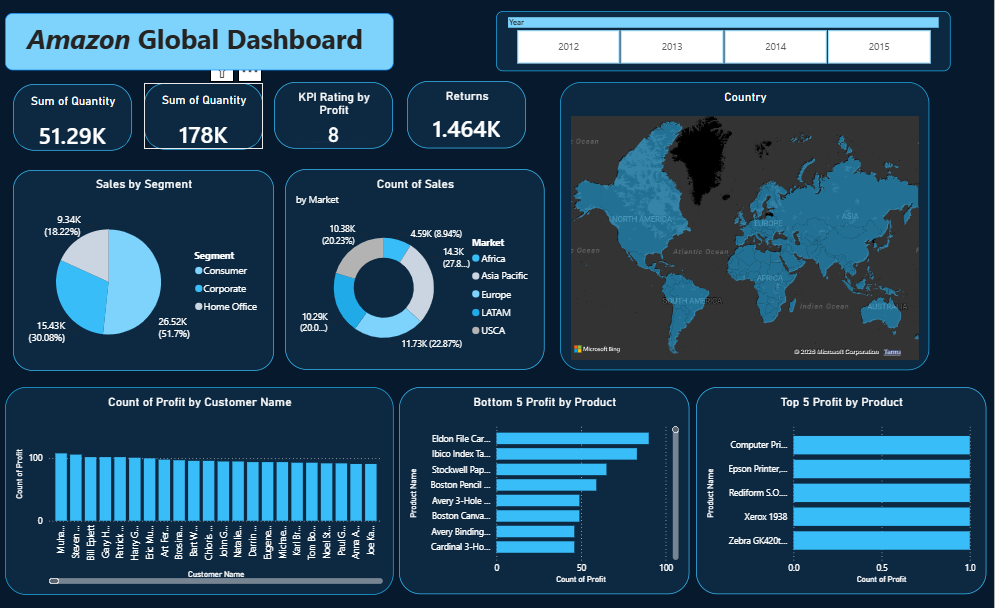

Layout of this report page (visuals, bound fields, positions):
{"tool":"powerbi","page":{"name":"Page 1","canvas":[1389,850],"ordinal":0},"visuals":[{"type":"pieChart","title":" Sales by Segment","fields":{"Series":["amazondataset.Segment"],"Y":["CountNonNull(amazondataset.Sales)"]},"box":[21.2,240.4,363.7,280.2],"z":0},{"type":"donutChart","fields":{"Series":["amazondataset.Market"],"Y":["CountNonNull(amazondataset.Sales)"]},"box":[399.8,239.1,362.4,280.2],"z":1000},{"type":"clusteredColumnChart","fields":{"Y":["CountNonNull(amazondataset.Profit)"],"Category":["amazondataset.Customer Name"]},"box":[9.3,541.9,541.9,289.5],"z":2000},{"type":"clusteredBarChart","title":"Bottom 5 Profit by Product","fields":{"Category":["amazondataset.Product Name"],"Y":["CountNonNull(amazondataset.Profit)"]},"box":[559.1,541.9,404.8,289.2],"z":3000},{"type":"filledMap","fields":{"Category":["amazondataset.Country"]},"box":[783.6,116.9,515.3,402.4],"z":4000},{"type":"kpi","fields":{"Indicator":["Sum(amazondataset.Quantity)"],"TrendLine":["amazondataset.Profit"]},"box":[385.2,116.9,165.8,92.5],"z":5000},{"type":"slicer","fields":{"Values":["amazondataset.Order Date.Variation.Date Hierarchy.Year"]},"box":[694.6,18.6,633.5,83.7],"z":6000},{"type":"cardVisual","title":"Sum of Quantity","fields":{"Data":["Sum(amazondataset.Quantity)"]},"box":[203.2,118.2,165.8,92.5],"z":7000},{"type":"textbox","box":[9.3,21.2,541.9,79.7],"z":8000},{"type":"cardVisual","title":"Returns","fields":{"Data":["Count(amazondataset.Ship Date)"]},"box":[569.8,115.5,166,94.3],"z":9000},{"type":"cardVisual","title":"Sum of Quantity","fields":{"Data":["CountNonNull(amazondataset.Sales)"]},"box":[21.2,119.5,165.8,92.5],"z":10000},{"type":"clusteredBarChart","title":"Top 5 Profit by Product ","fields":{"Category":["amazondataset.Product Name"],"Y":["CountNonNull(amazondataset.Profit)"]},"box":[973.5,541.9,404.8,289.2],"z":11000}]}

Visuals, with their boxes in screenshot pixels (x1, y1, x2, y2), scaled from the page's 1389x850 canvas onto the 995x608 screenshot:
" Sales by Segment" pieChart: <region>15, 172, 276, 372</region>
donutChart - amazondataset.Market x CountNonNull(amazondataset.Sales): <region>286, 171, 546, 371</region>
clusteredColumnChart - CountNonNull(amazondataset.Profit) x amazondataset.Customer Name: <region>7, 388, 395, 595</region>
"Bottom 5 Profit by Product" clusteredBarChart: <region>401, 388, 690, 594</region>
filledMap - amazondataset.Country: <region>561, 84, 930, 371</region>
kpi - Sum(amazondataset.Quantity) x amazondataset.Profit: <region>276, 84, 395, 150</region>
slicer - amazondataset.Order Date.Variation.Date Hierarchy.Year: <region>498, 13, 951, 73</region>
"Sum of Quantity" cardVisual: <region>146, 85, 264, 151</region>
textbox: <region>7, 15, 395, 72</region>
"Returns" cardVisual: <region>408, 83, 527, 150</region>
"Sum of Quantity" cardVisual: <region>15, 85, 134, 152</region>
"Top 5 Profit by Product " clusteredBarChart: <region>697, 388, 987, 594</region>
